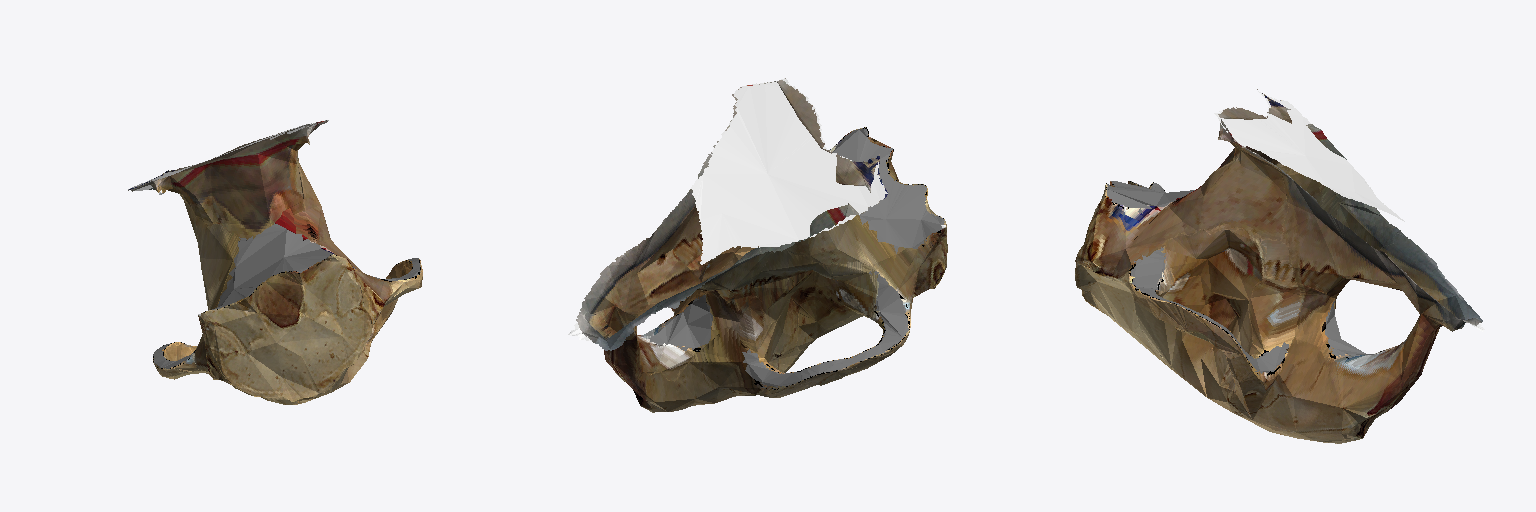
The picture shows the model from 3 angles: view 1: azimuth 30°, elevation 25°; view 2: azimuth 150°, elevation 25°; view 3: azimuth 270°, elevation 25°; orthographic projection.
Bounding box in the file's own units: 10.78 × 12.56 × 15.48.
3 materials, 1 textured.